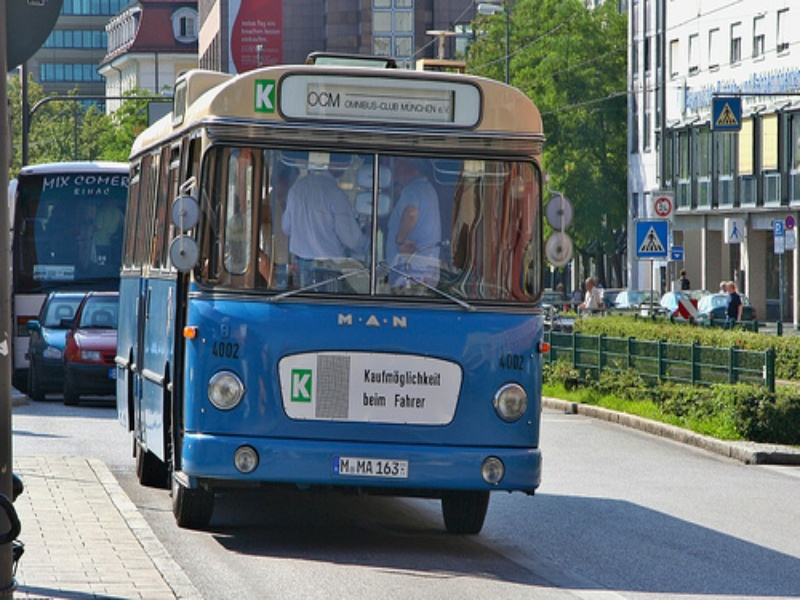car: (113, 52, 552, 532), (11, 161, 134, 384), (26, 292, 88, 401), (66, 291, 118, 403), (697, 293, 758, 330)
person: (282, 161, 369, 293), (383, 156, 443, 294), (261, 158, 300, 285), (725, 281, 742, 329), (578, 277, 601, 311), (678, 269, 690, 290)
plate: (332, 453, 408, 479)
